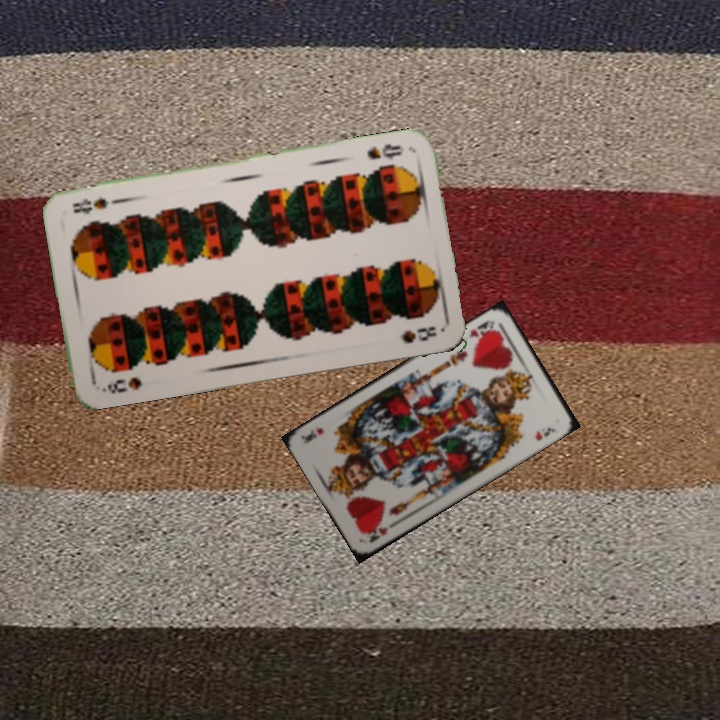HK: (364, 517, 400, 545), (464, 316, 497, 342)
S8: (97, 373, 145, 397), (363, 139, 407, 162)
